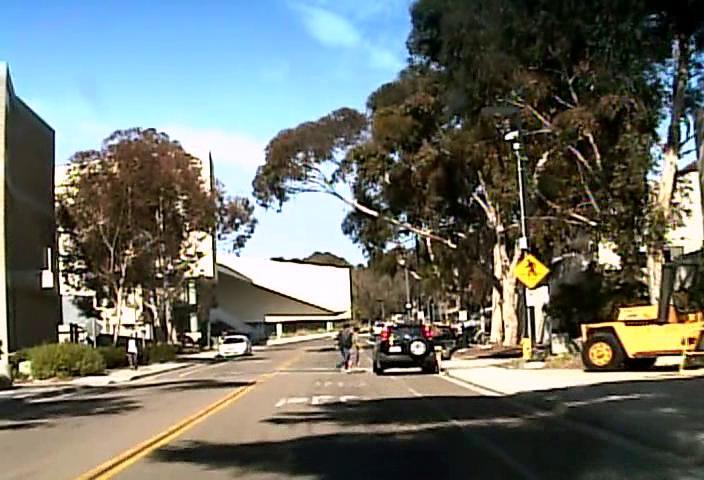pedestrianCrossing: (512, 252, 550, 288)
